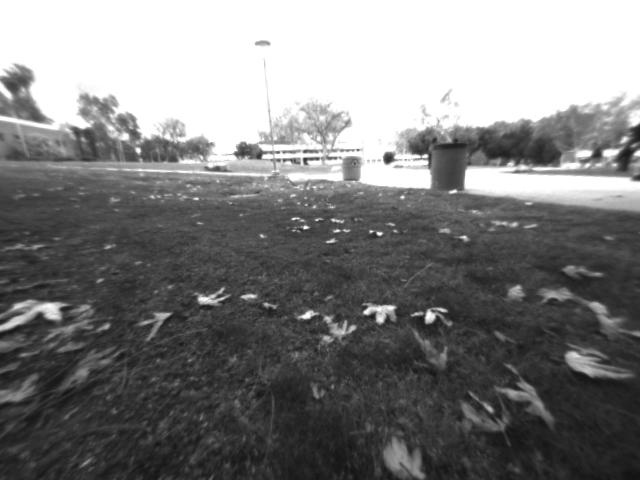trashcan: (429, 143, 466, 195), (340, 152, 371, 186)
